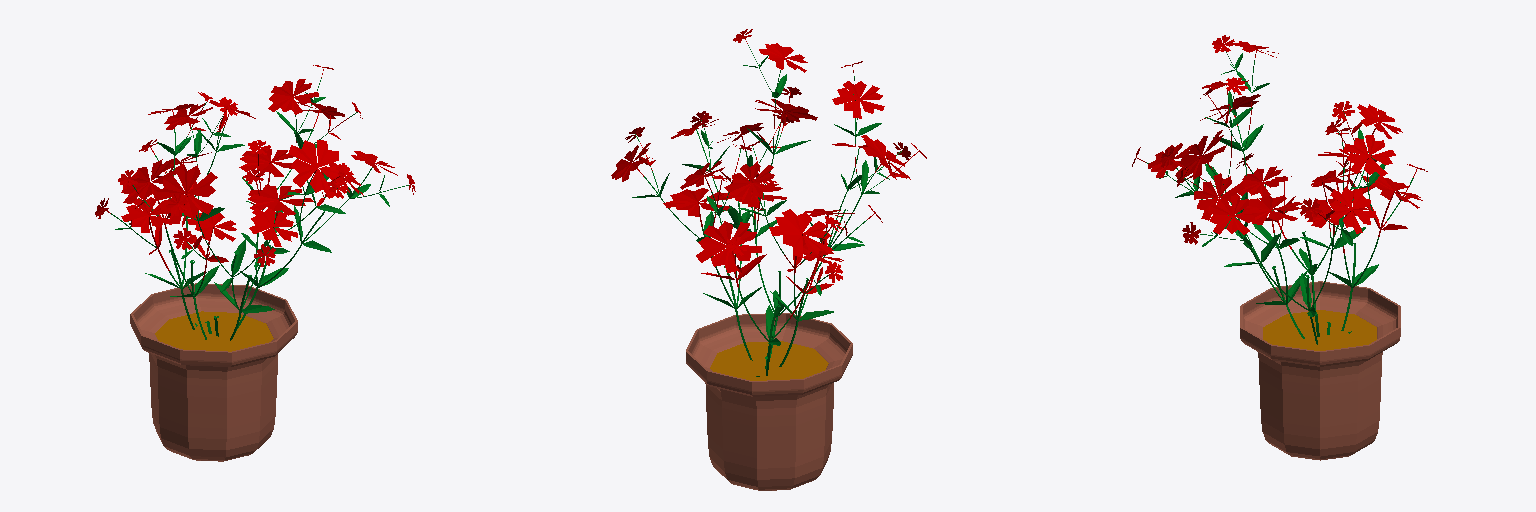
File: flower2.obj
The picture shows the model from 3 angles: view 1: azimuth 30°, elevation 25°; view 2: azimuth 150°, elevation 25°; view 3: azimuth 270°, elevation 25°; orthographic projection.
Visible parts, largest first — view 1: 2; view 2: 2; view 3: 2.
Boxes of the visible parts, x1,y1,x2,y2 form: 2: [95, 65, 415, 461]; 2: [611, 29, 926, 490]; 2: [1132, 35, 1427, 460].
Bounding box in the file's own units: 3471 × 5316 × 3613.